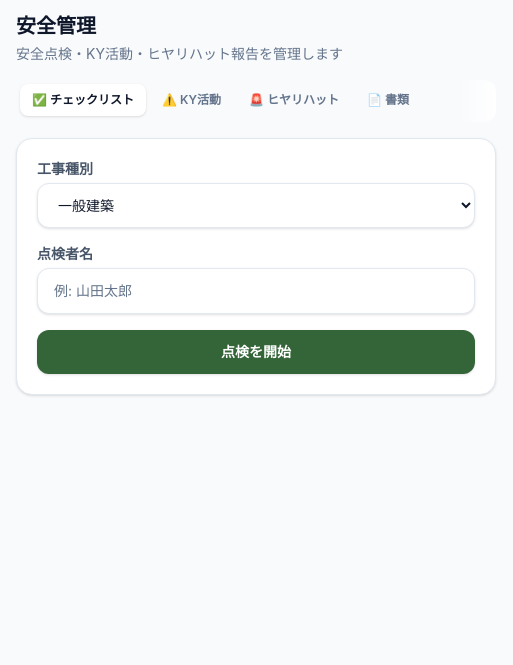
Test: SafetyInspectionPage accessibility › KY tab — 参加者 and 危険予知 fields have accessible labels
Click the button "⚠️ KY活動": click(192, 100) [150,84,233,116]
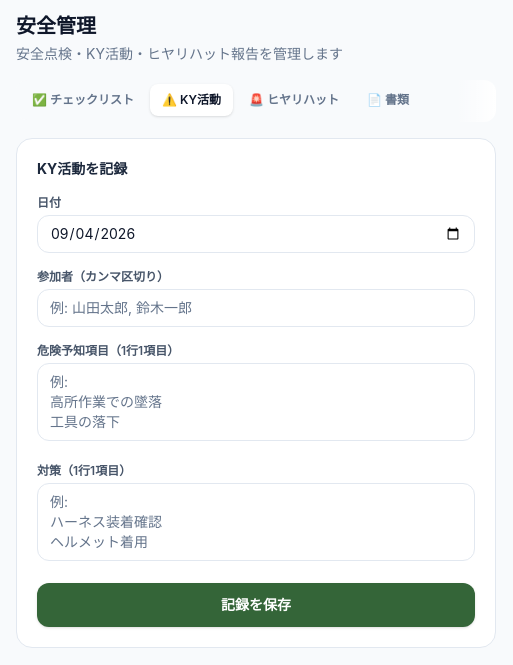
Expected: the field labelled "参加者（カンマ区切り）" is shown, [37,289,475,327]
Expected: the text box labelled "危険予知項目（1行1項目）" is shown, [37,363,475,441]
Expected: the text box labelled "対策（1行1項目）" is shown, [37,483,475,561]
